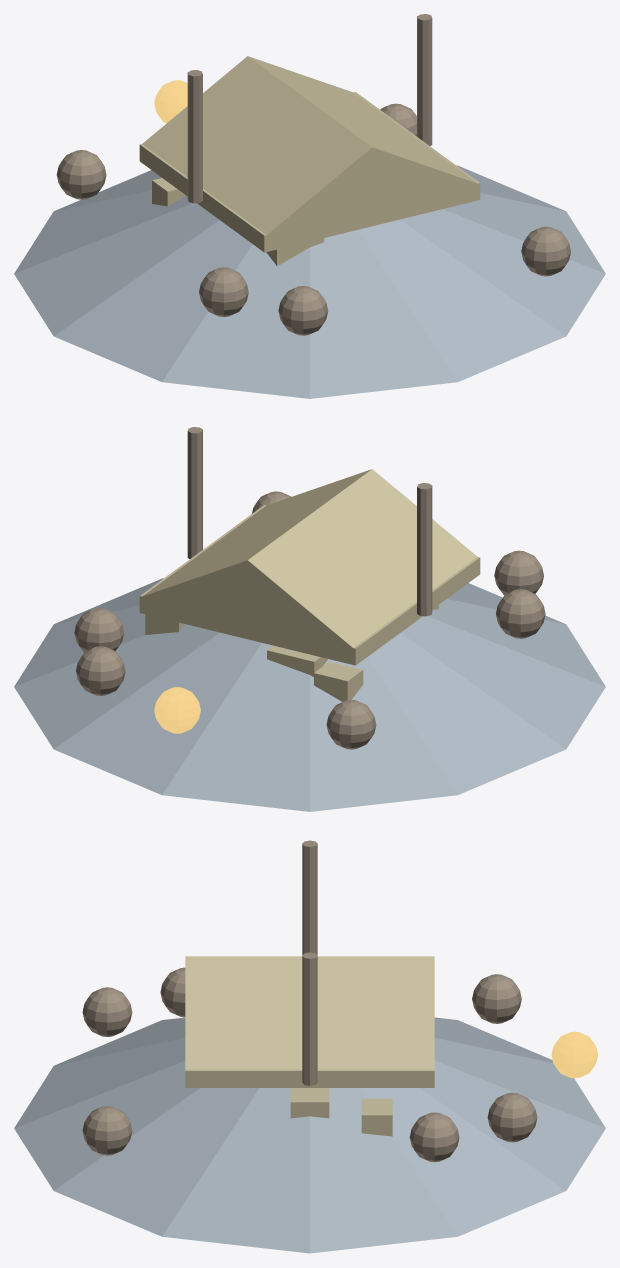
The model's file is mine_coal.glb.
3 renders of one model, top to bottom at view 1: azimuth 30°, elevation 25°; view 2: azimuth 150°, elevation 25°; view 3: azimuth 270°, elevation 25°, orthographic.
Parts seen in each view (by area): view 1: mine_batubara_doa.001, mine_batubara_timbunan_atap.001, mine_batubara_timbunan.001, mine_batubara_pipe_1.001, mine_batubara_pipe_0.001, mine_batubara_karu_5.001, mine_batubara_karu_2.001, mine_batubara_karu_3.001, mine_batubara_karu_4.001, mine_batubara_pangkar.001, mine_batubara_bajir_1.001, mine_batubara_karu_0.001 (+1 smaller); view 2: mine_batubara_doa.001, mine_batubara_timbunan_atap.001, mine_batubara_timbunan.001, mine_batubara_pipe_1.001, mine_batubara_pipe_0.001, mine_batubara_karu_5.001, mine_batubara_karu_1.001, mine_batubara_karu_2.001, mine_batubara_karu_3.001, mine_batubara_karu_0.001, mine_batubara_pangkar.001, mine_batubara_bajir_1.001 (+2 smaller); view 3: mine_batubara_doa.001, mine_batubara_timbunan_atap.001, mine_batubara_timbunan.001, mine_batubara_pipe_0.001, mine_batubara_karu_2.001, mine_batubara_karu_3.001, mine_batubara_karu_4.001, mine_batubara_karu_1.001, mine_batubara_karu_0.001, mine_batubara_pipe_1.001, mine_batubara_pangkar.001, mine_batubara_bajir_0.001 (+2 smaller).
Boxes of the visible parts, left/top/right/bottom form: mine_batubara_doa.001: left=14, top=165, right=605, bottom=398; mine_batubara_timbunan_atap.001: left=142, top=56, right=477, bottom=236; mine_batubara_timbunan.001: left=139, top=92, right=480, bottom=252; mine_batubara_pipe_1.001: left=187, top=70, right=202, bottom=203; mine_batubara_pipe_0.001: left=417, top=14, right=432, bottom=145; mine_batubara_karu_5.001: left=199, top=267, right=248, bottom=316; mine_batubara_karu_2.001: left=56, top=150, right=106, bottom=199; mine_batubara_karu_3.001: left=278, top=286, right=328, bottom=335; mine_batubara_karu_4.001: left=521, top=226, right=570, bottom=276; mine_batubara_pangkar.001: left=154, top=80, right=187, bottom=123; mine_batubara_bajir_1.001: left=152, top=178, right=185, bottom=206; mine_batubara_karu_0.001: left=380, top=103, right=416, bottom=136; mine_batubara_doa.001: left=14, top=578, right=605, bottom=811; mine_batubara_timbunan_atap.001: left=142, top=469, right=477, bottom=649; mine_batubara_timbunan.001: left=139, top=505, right=480, bottom=665; mine_batubara_pipe_1.001: left=417, top=483, right=432, bottom=616; mine_batubara_pipe_0.001: left=187, top=427, right=202, bottom=558; mine_batubara_karu_5.001: left=496, top=589, right=545, bottom=638; mine_batubara_karu_1.001: left=76, top=646, right=125, bottom=695; mine_batubara_karu_2.001: left=326, top=700, right=376, bottom=749; mine_batubara_karu_3.001: left=494, top=550, right=543, bottom=595; mine_batubara_karu_0.001: left=74, top=608, right=123, bottom=652; mine_batubara_pangkar.001: left=154, top=687, right=200, bottom=733; mine_batubara_bajir_1.001: left=314, top=661, right=363, bottom=701; mine_batubara_doa.001: left=14, top=1017, right=605, bottom=1253; mine_batubara_timbunan_atap.001: left=185, top=956, right=434, bottom=1069; mine_batubara_timbunan.001: left=185, top=1069, right=434, bottom=1087; mine_batubara_pipe_0.001: left=302, top=952, right=317, bottom=1085; mine_batubara_karu_2.001: left=472, top=974, right=521, bottom=1023; mine_batubara_karu_3.001: left=82, top=987, right=132, bottom=1036; mine_batubara_karu_4.001: left=82, top=1106, right=132, bottom=1155; mine_batubara_karu_1.001: left=487, top=1092, right=537, bottom=1142; mine_batubara_karu_0.001: left=409, top=1112, right=459, bottom=1162; mine_batubara_pipe_1.001: left=302, top=840, right=317, bottom=954; mine_batubara_pangkar.001: left=551, top=1031, right=597, bottom=1078; mine_batubara_bajir_0.001: left=361, top=1098, right=392, bottom=1136.
Bounding box in the file's own units: 3.8 × 1.62 × 3.8.
